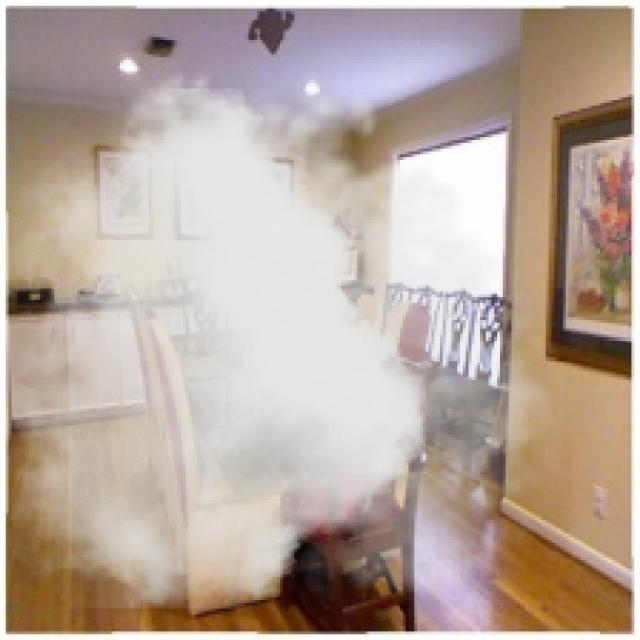smoke: (11, 54, 572, 609)
